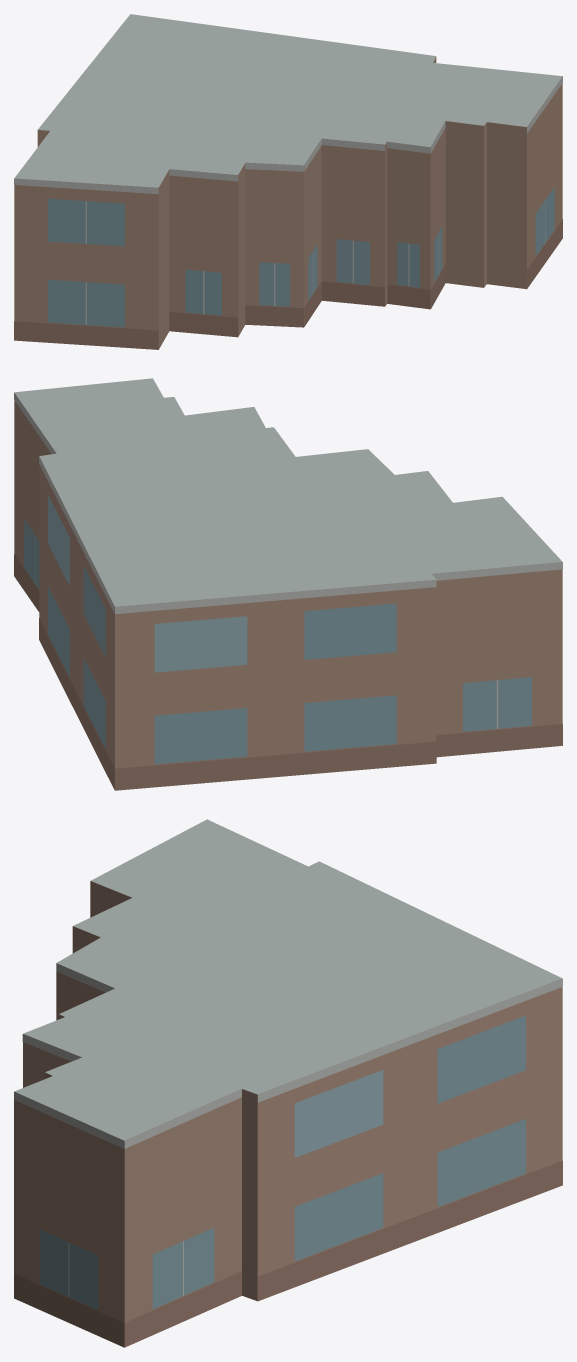
File: survey-upis-32602611.glb
The picture shows the model from 3 angles, top to bottom: view 1: azimuth 30°, elevation 25°; view 2: azimuth 150°, elevation 25°; view 3: azimuth 270°, elevation 25°; orthographic projection. The views are drawn at different scales.
Parts seen in each view (by area): view 1: survey-upis-32602611.tmp; view 2: survey-upis-32602611.tmp; view 3: survey-upis-32602611.tmp.
Boxes of the visible parts, box(x1,y1,x2,y2) form: survey-upis-32602611.tmp: box(14, 14, 562, 349); survey-upis-32602611.tmp: box(14, 378, 562, 790); survey-upis-32602611.tmp: box(14, 819, 562, 1347).
Bounding box in the file's own units: 20.34 × 6.1 × 14.67.
